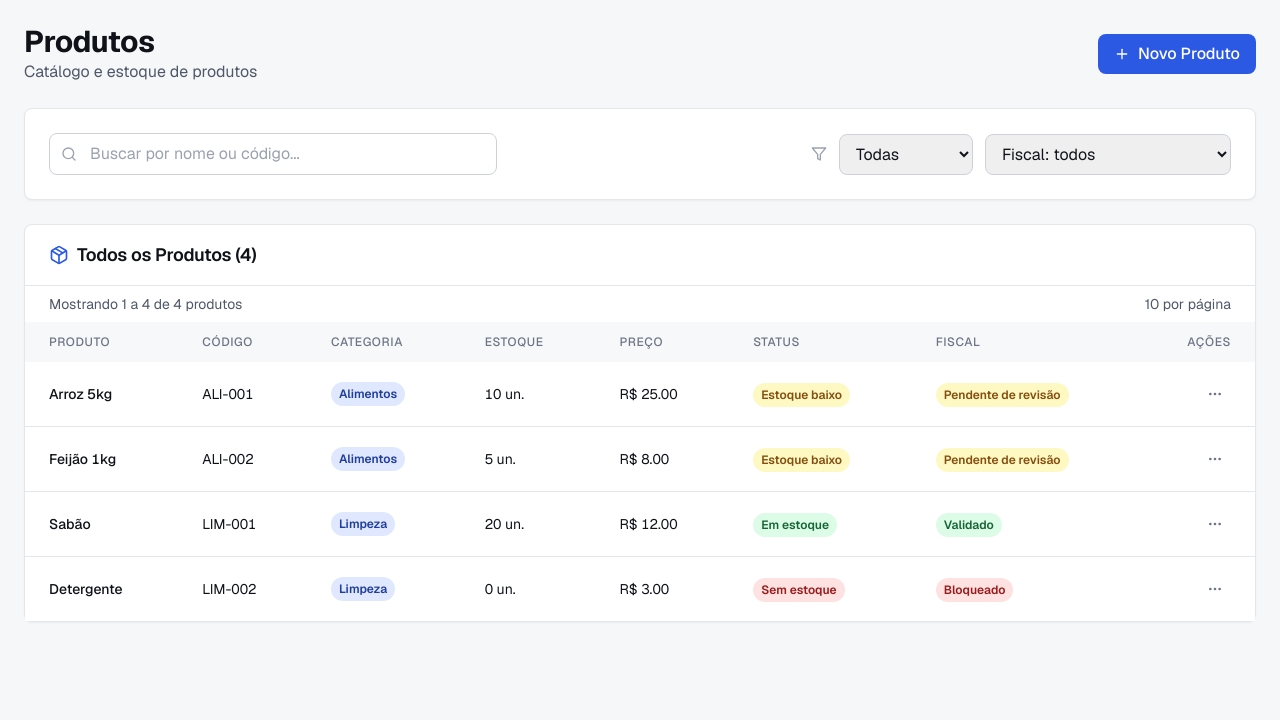
Produtos — pesquisa sem perda de foco › 3. Apagar o texto da pesquisa restaura a lista completa
Step 1. Type "Arroz" into the field with placeholder "Buscar por nome ou código..." → (273, 154), box [49, 133, 497, 175]
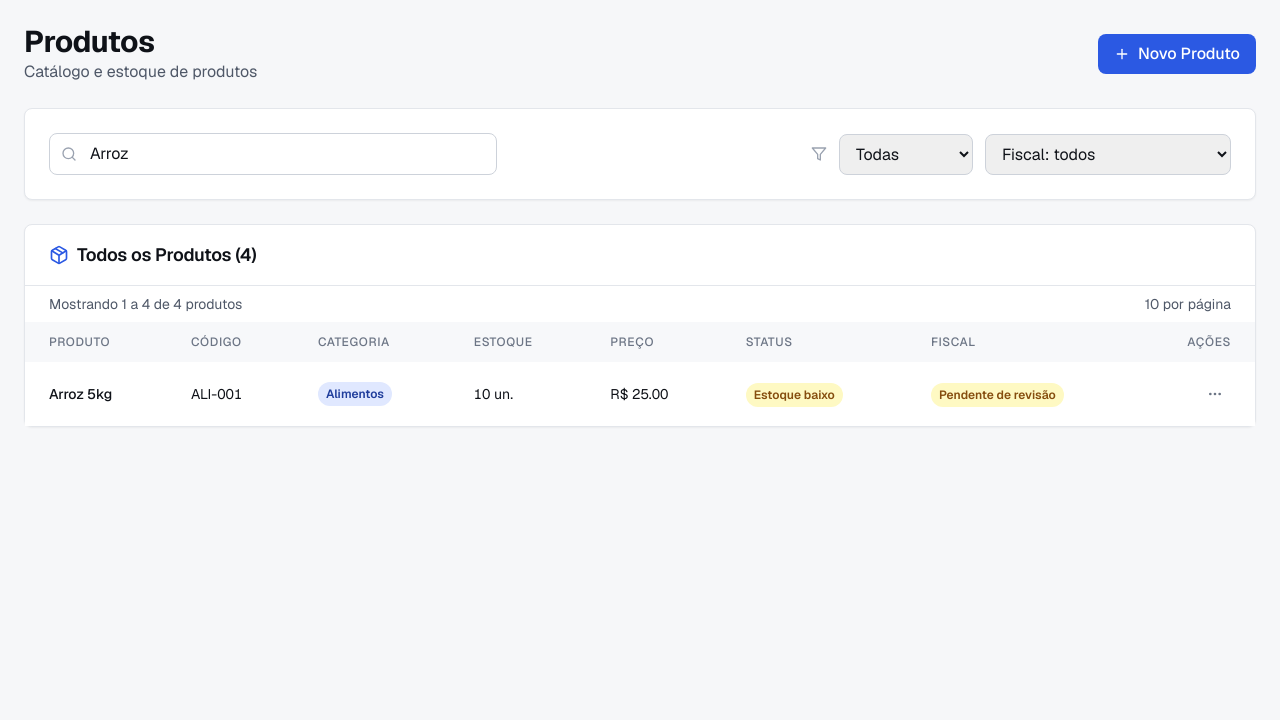
Expected: the text "Arroz 5kg" is shown, [49, 385, 112, 403]
Step 2. Clear the field with placeholder "Buscar por nome ou código..." → (273, 154), box [49, 133, 497, 175]
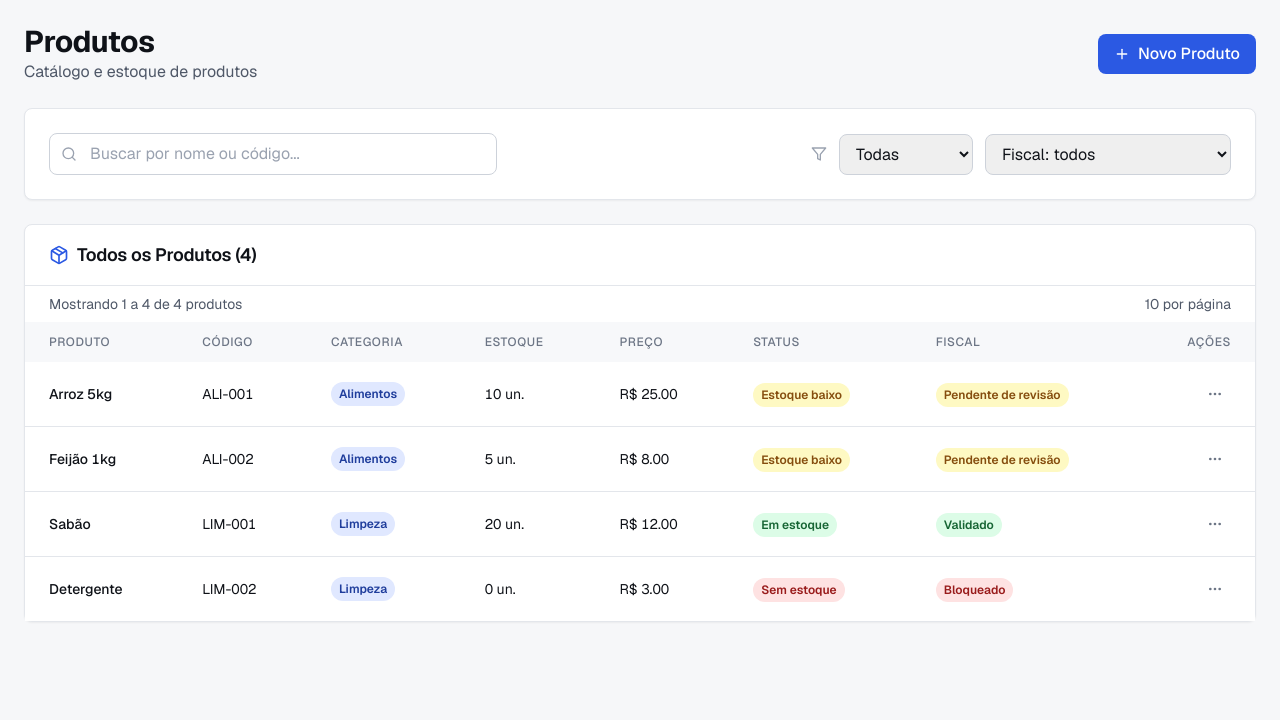
Result: the text "Feijão 1kg" is shown at [49, 450, 116, 468]
Result: the text "Sabão" is shown at [49, 515, 91, 533]
Result: the text "Detergente" is shown at [49, 580, 123, 598]
